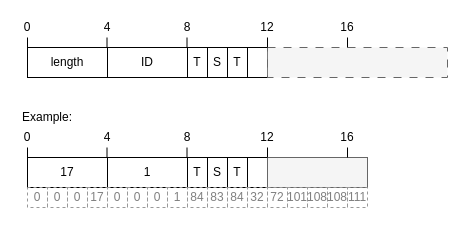
Image size: 465x225. Some labels were removed from this diagram. Each missing label, with the centre of its shape:
Hello: the point at 317,172
Payload: the point at 357,62
